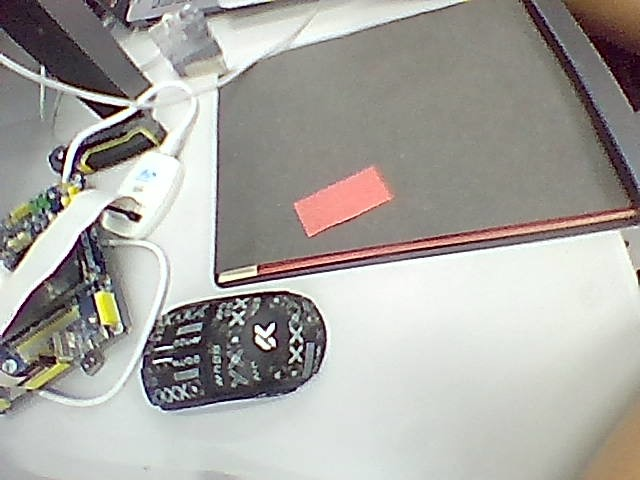card: (295, 166, 392, 236)
